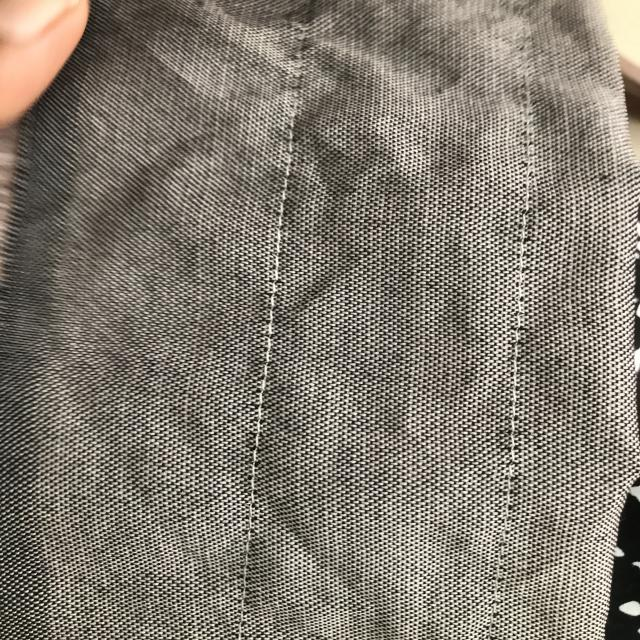good: (493, 348, 530, 453)
